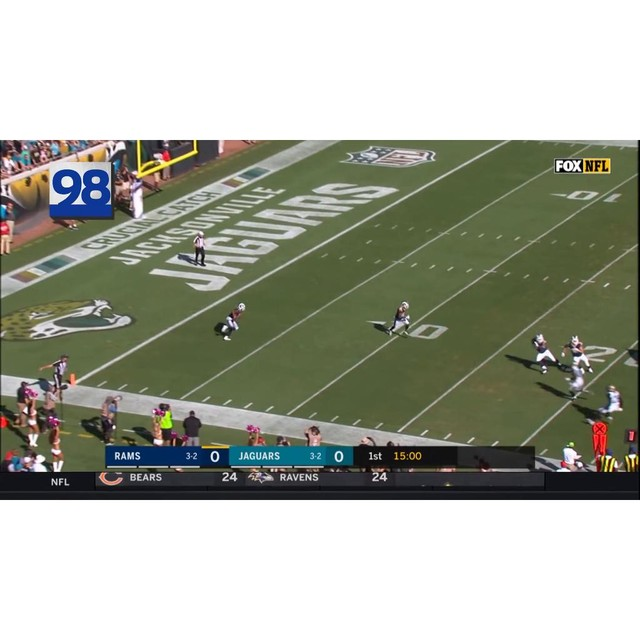american-football-player: (530, 333, 566, 373), (562, 335, 594, 374), (215, 303, 247, 341), (563, 360, 588, 401), (598, 383, 624, 422), (386, 301, 411, 337)
referee: (192, 231, 208, 267)
